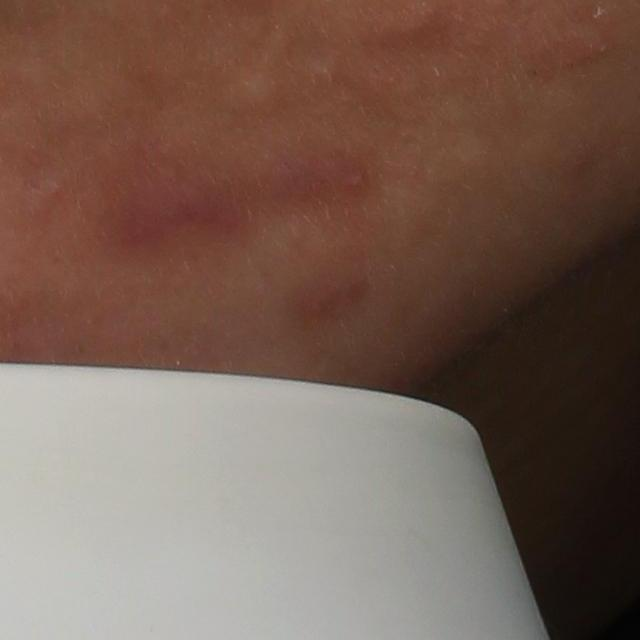hypertrophic_scar: (216, 61, 292, 124)
